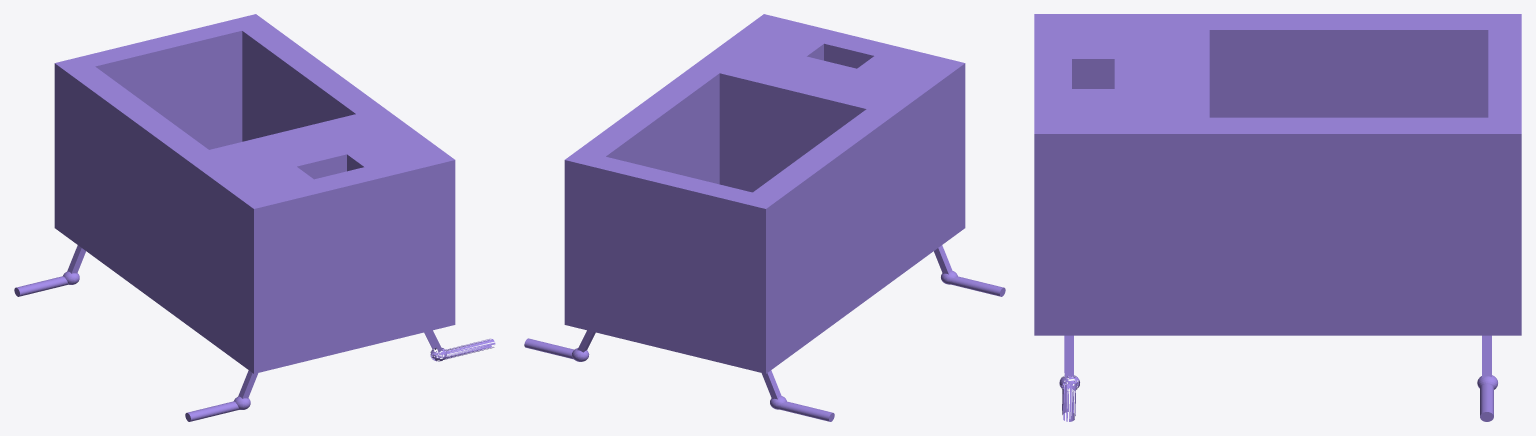
3 views of the same model, side by side, from view 1: azimuth 30°, elevation 25°; view 2: azimuth 150°, elevation 25°; view 3: azimuth 270°, elevation 25° (orthographic). The views are drawn at different scales.
Parts seen in each view (by area): view 1: car_000; view 2: car_000; view 3: car_000.
Part boxes in pixels (x1,y1,x2,y2): car_000: (14,14,495,421); car_000: (524,14,1005,421); car_000: (1034,14,1521,421).
Bounding box in the file's own units: 3.02 × 3.43 × 2.
